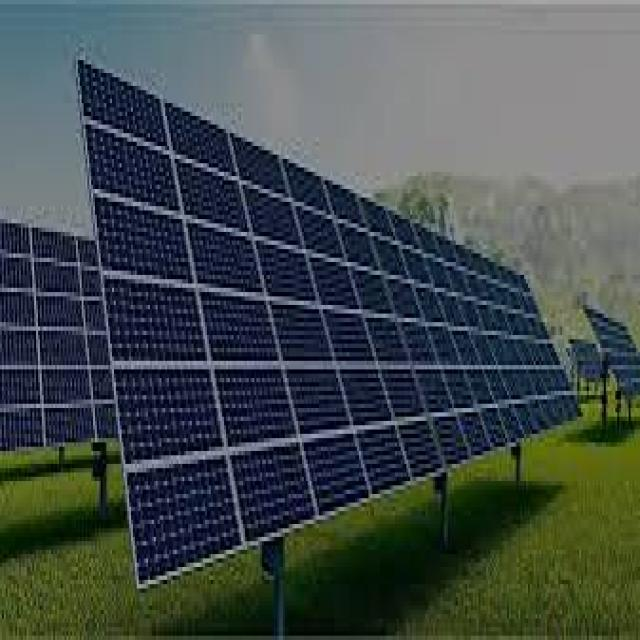Solar: (75, 61, 583, 594), (0, 223, 118, 441), (588, 311, 640, 390)
